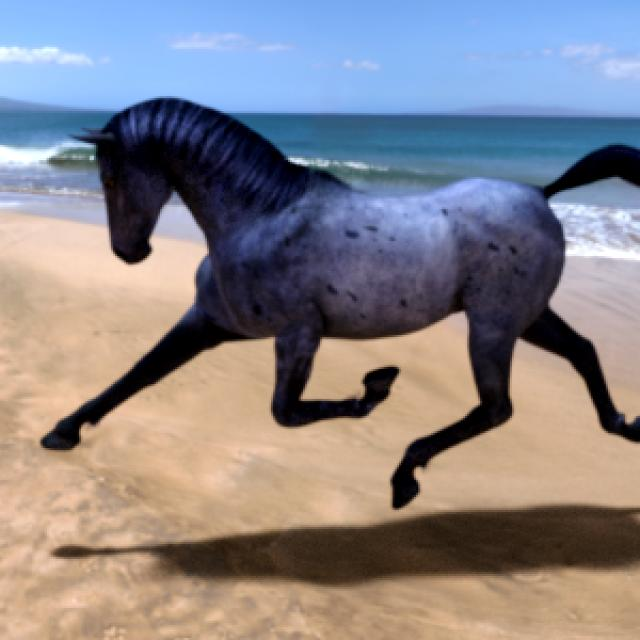horse: (41, 100, 640, 507)
